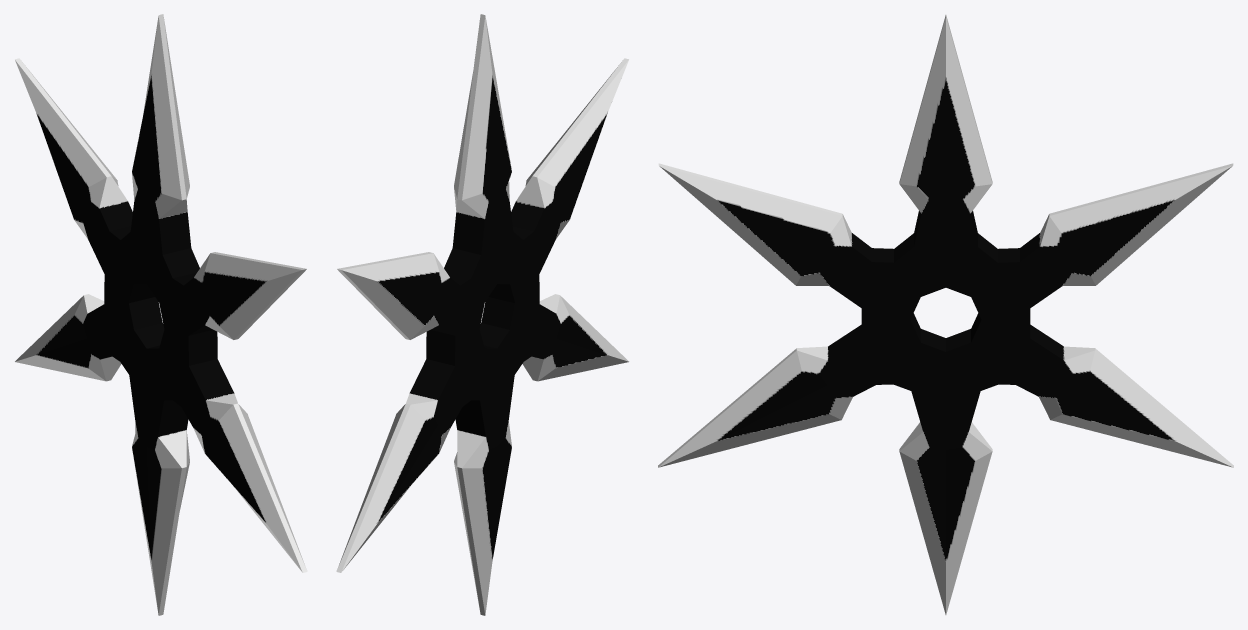
The model's file is Shuriken.fbx.
3 renders of one model, left to right at view 1: azimuth 30°, elevation 25°; view 2: azimuth 150°, elevation 25°; view 3: azimuth 270°, elevation 25°, orthographic.
Visible parts, largest first — view 1: Shuriken; view 2: Shuriken; view 3: Shuriken.
Boxes of the visible parts, <box> form: Shuriken: <box>15,14,307,615</box>; Shuriken: <box>336,14,628,615</box>; Shuriken: <box>658,15,1233,614</box>.
Bounding box in the file's own units: 3.11 × 62.19 × 54.12.
